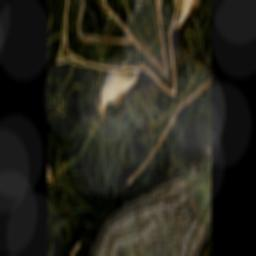Cuckoo: (90, 28, 169, 158)
